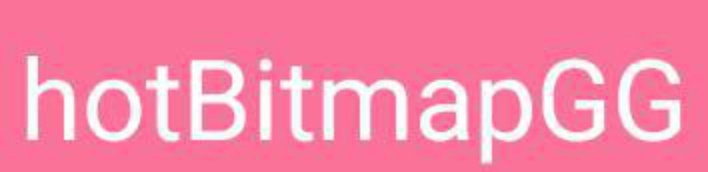TextView: (1, 1, 707, 171)
